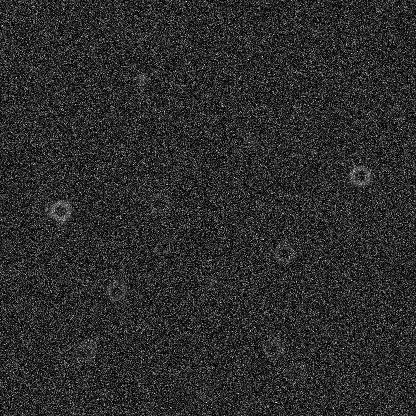Ring: (104, 278, 128, 302), (147, 191, 171, 215), (347, 163, 371, 187), (284, 359, 308, 383), (28, 200, 52, 224), (73, 339, 97, 363), (272, 240, 296, 264), (261, 337, 285, 361), (48, 198, 72, 222)
Spot: (133, 71, 149, 87), (203, 273, 219, 289), (225, 172, 241, 188), (242, 132, 258, 148)
